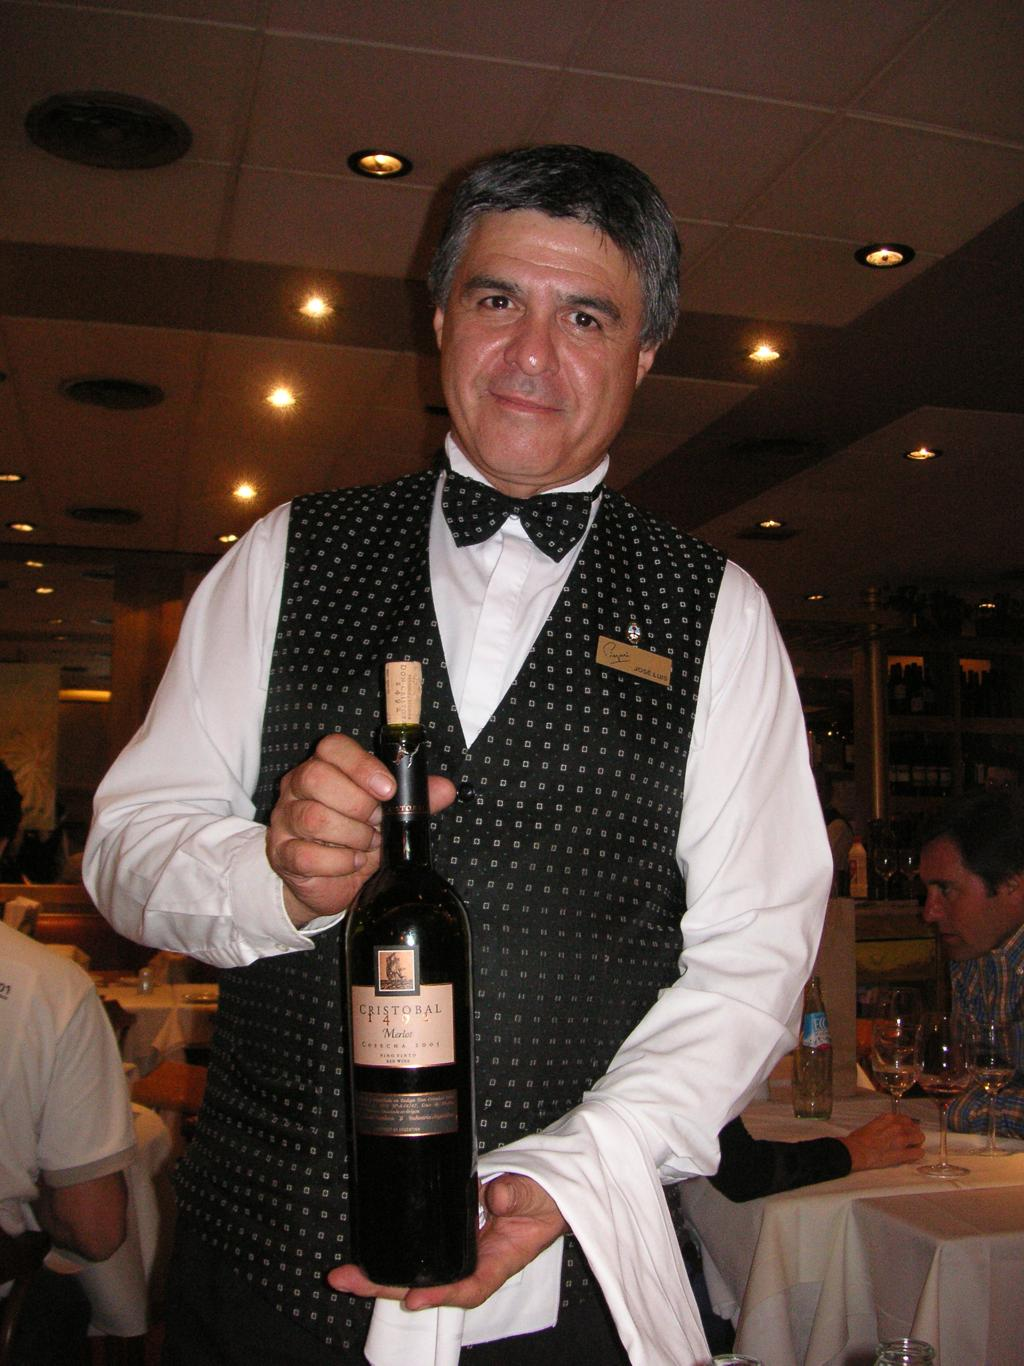face: (445, 195, 645, 486), (915, 837, 1003, 962)
